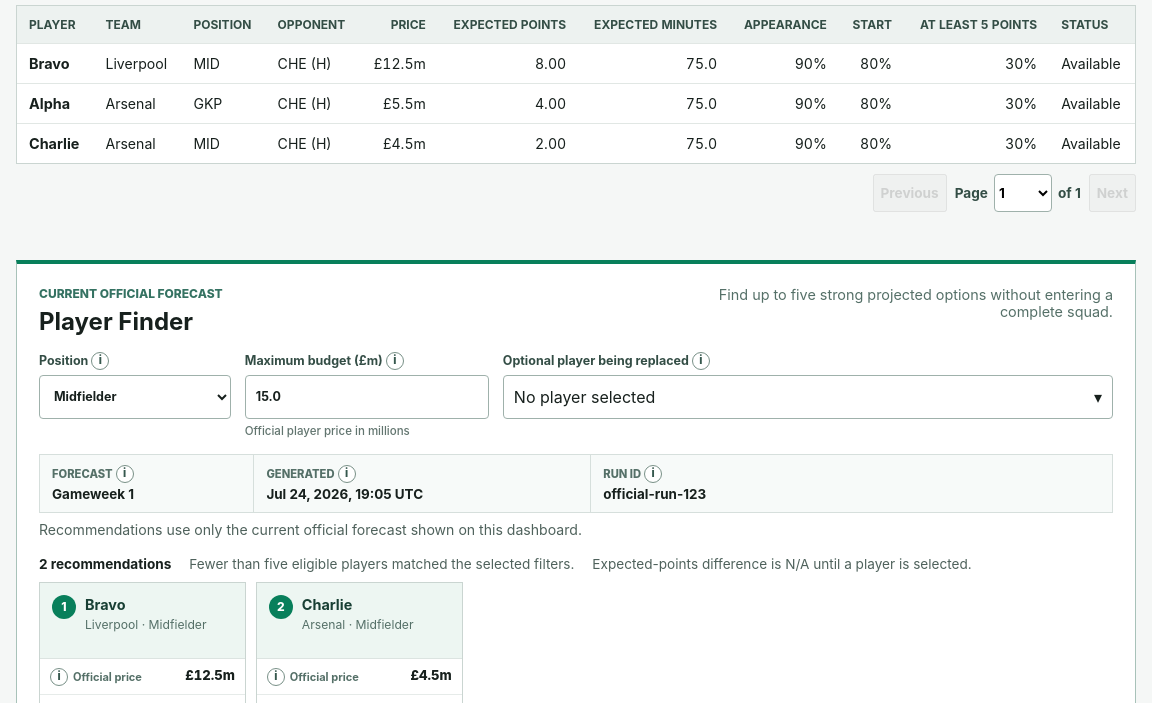
Test case: dashboard interactions › explains Player Finder controls and forecast identity with accessible tooltips
(page scrolled)
Check: the button named "More information about Forecast" is shown, box top-left (116, 465), bottom-right (134, 483)
Click the button named "More information about Maximum budget (£m)" at (395, 361), box top-left (386, 352), bottom-right (404, 370)
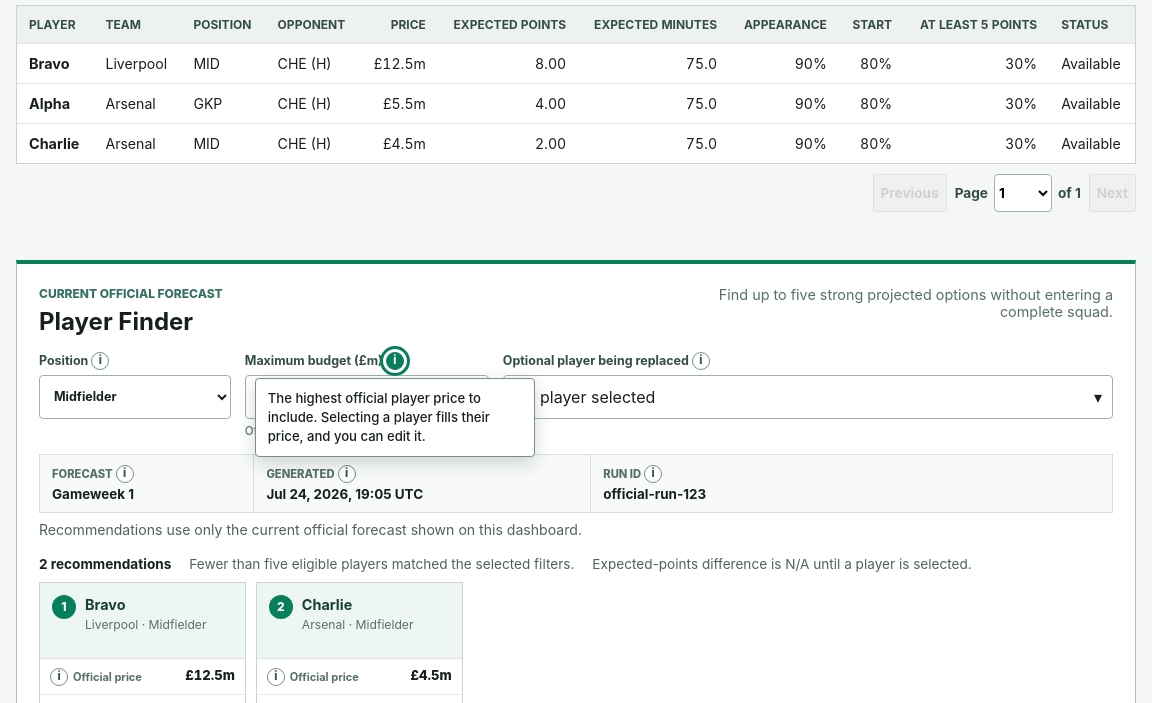
Check: the tooltip shows "Selecting a player fills their price", box top-left (268, 390), bottom-right (490, 444)
Press Escape
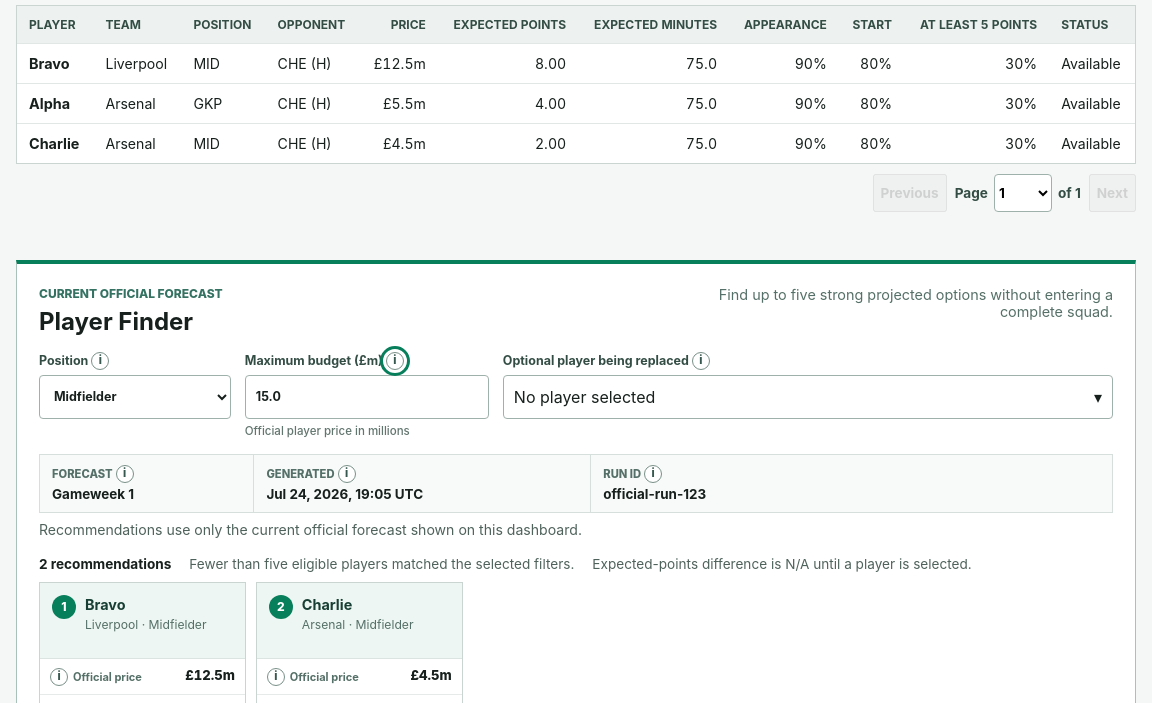
Check: the tooltip is gone
